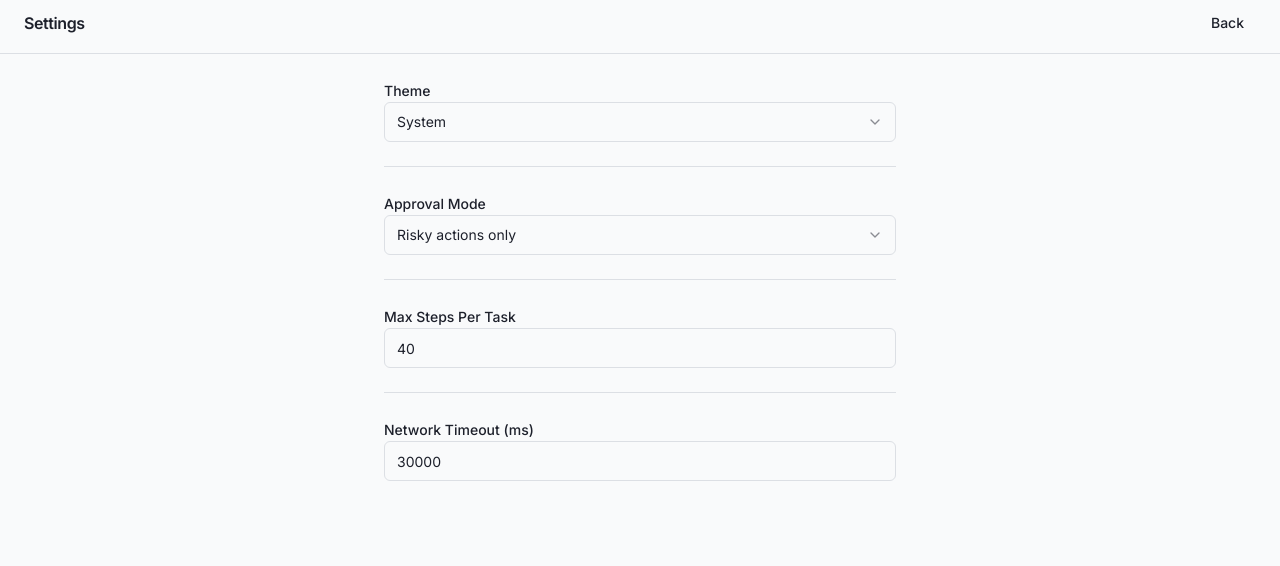
Test: SettingsView › shows error when IPC fails
The image size is (1280, 566).
Step 1. Replace the text in the number field below "Network Timeout (ms)" with "5000" → coordinates (640, 461), box [384,441,896,481]
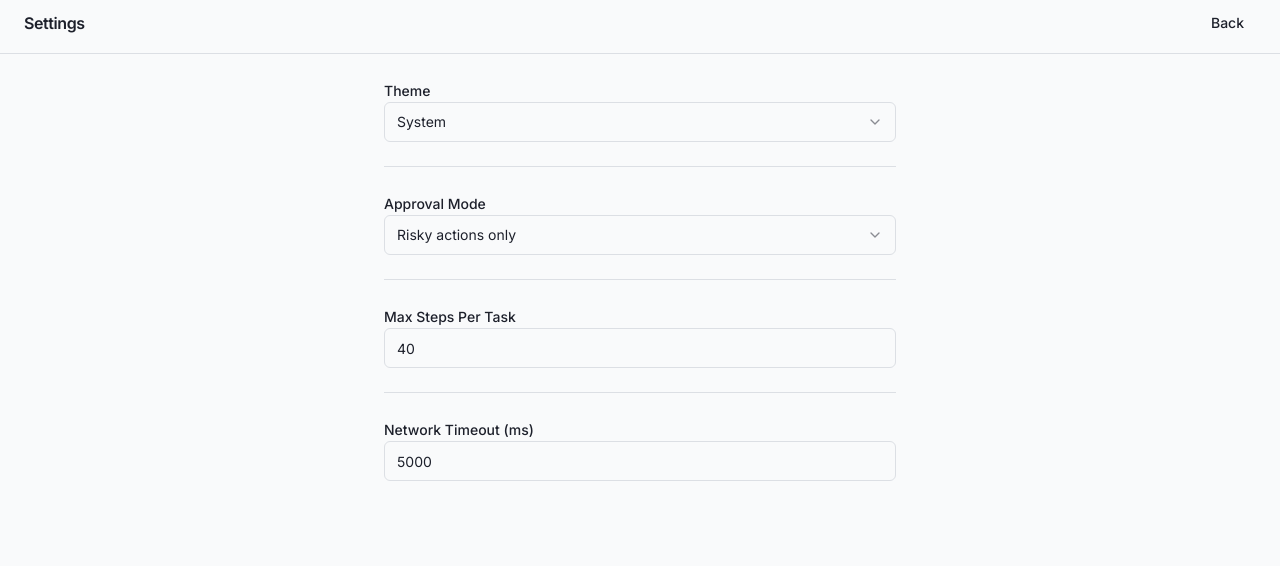
Step 2. Leave the number field below "Network Timeout (ms)", box [384,441,896,481]
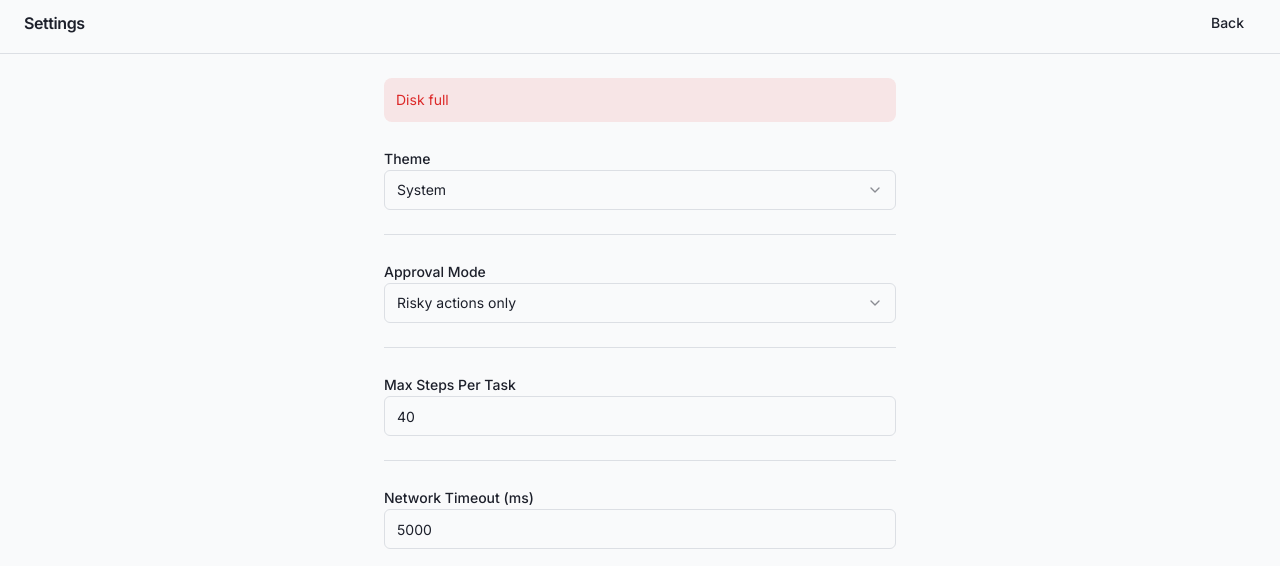
Expected: the text "Disk full" is shown, [384,78,896,122]
